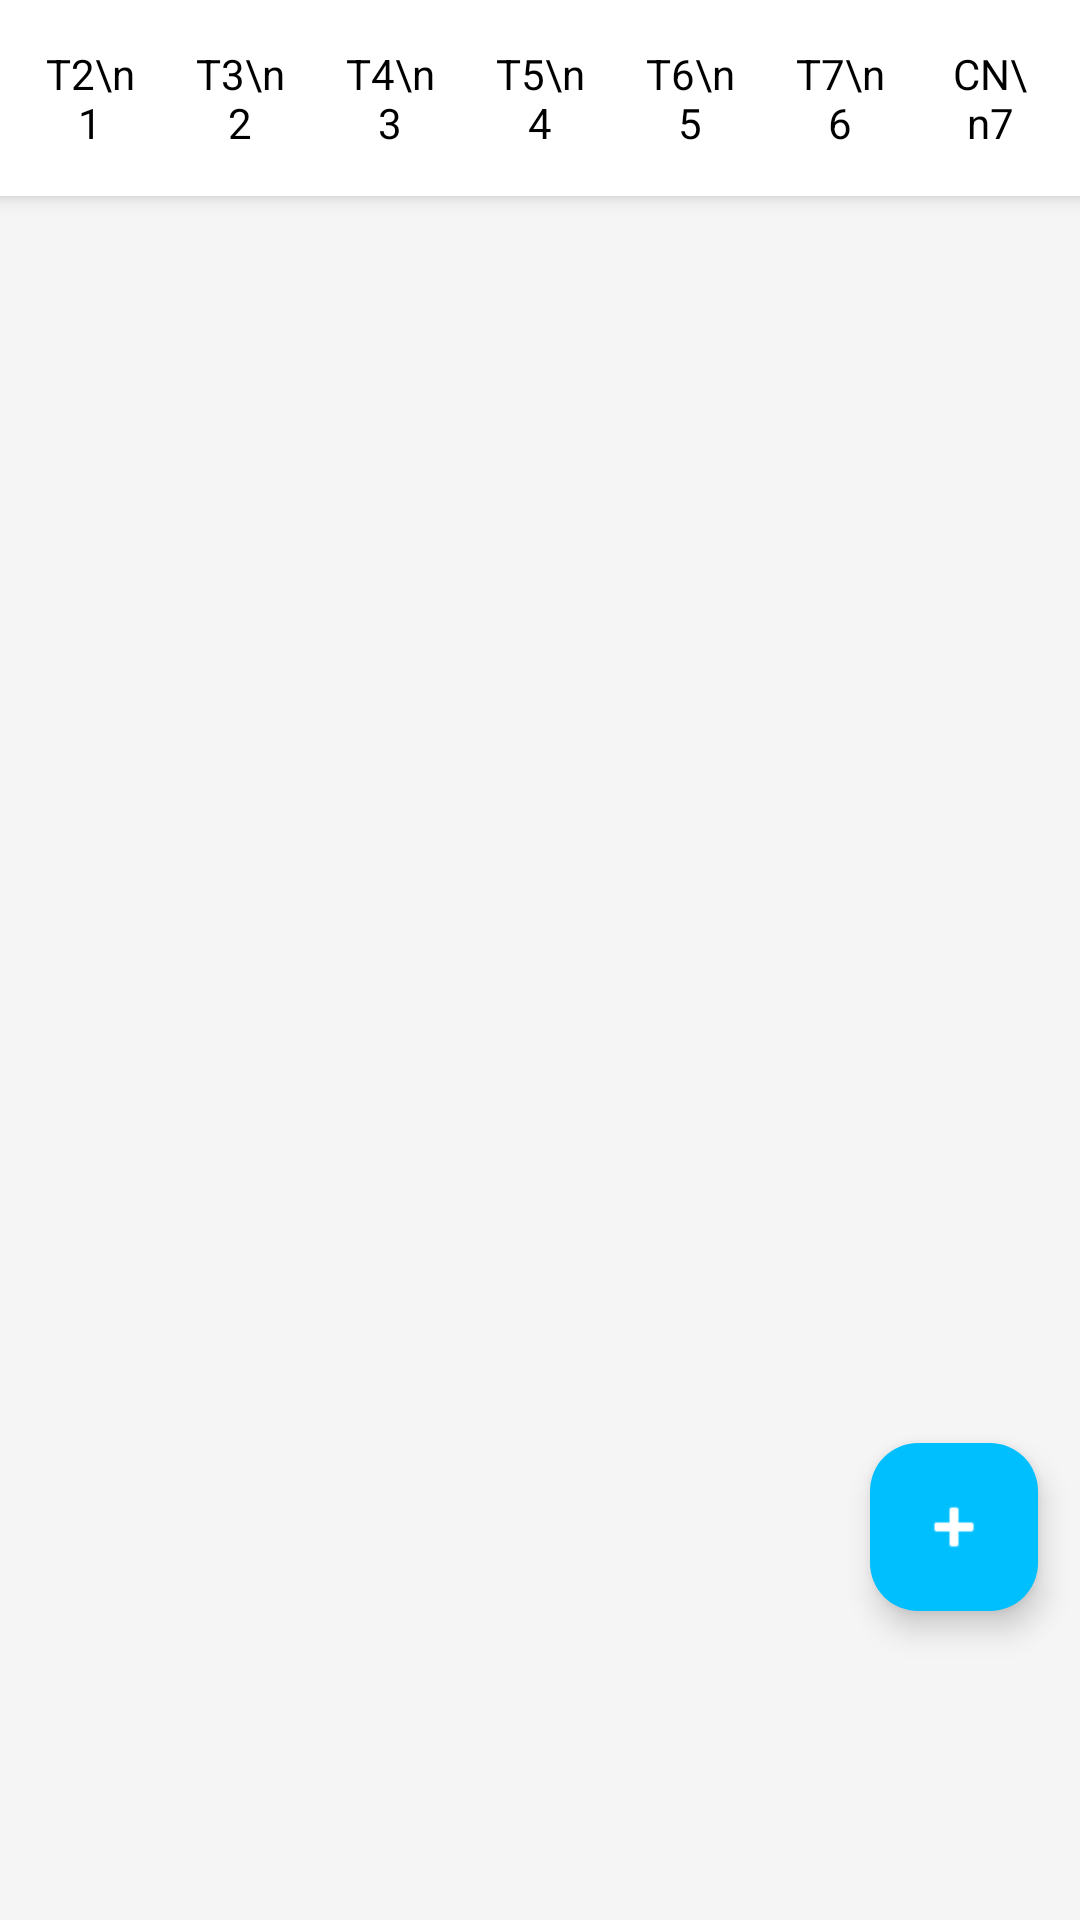

Icon bounding boxes for this 1080 × 1920 phone screenshot, format {"x1": x1, "y1": y1, "x2": x2, "y2": y2}:
add: {"x1": 870, "y1": 1443, "x2": 1038, "y2": 1611}
